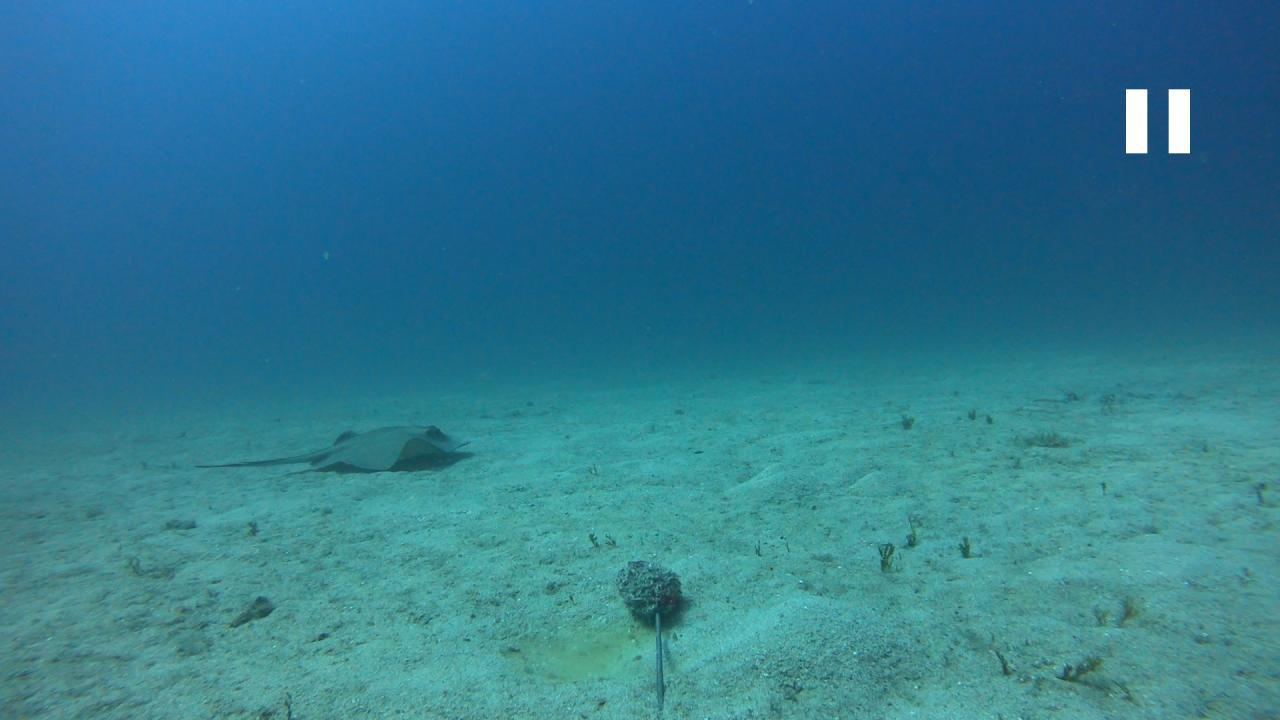dasyatis: (192, 422, 474, 472)
